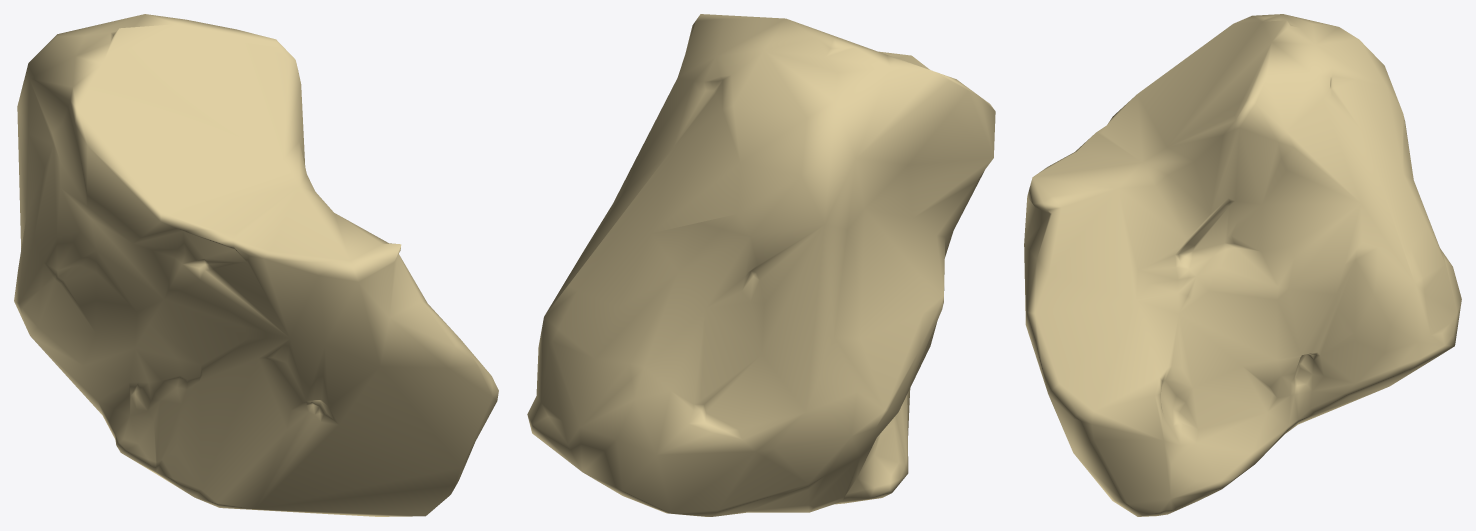
The picture shows the model from 3 angles, left to right: view 1: azimuth 30°, elevation 25°; view 2: azimuth 150°, elevation 25°; view 3: azimuth 270°, elevation 25°; orthographic projection. The views are drawn at different scales.
Parts seen in each view (by area): view 1: 左侧内侧楔骨; view 2: 左侧内侧楔骨; view 3: 左侧内侧楔骨.
Boxes of the visible parts, x1=… form: 左侧内侧楔骨: x1=14, y1=14, x2=498, y2=516; 左侧内侧楔骨: x1=527, y1=14, x2=995, y2=516; 左侧内侧楔骨: x1=1024, y1=14, x2=1461, y2=516.
Bounding box in the file's own units: 0.037 × 0.0486 × 0.0476.
